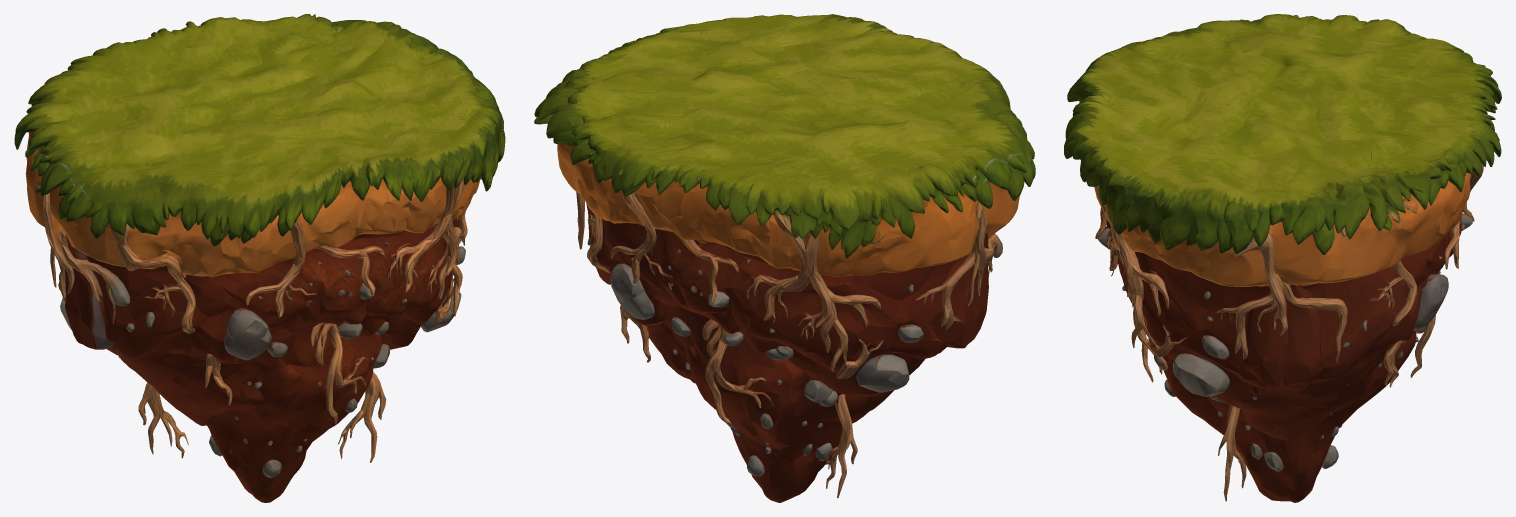
The model's file is isla2.glb.
3 views of the same model, side by side, from view 1: azimuth 30°, elevation 25°; view 2: azimuth 150°, elevation 25°; view 3: azimuth 270°, elevation 25° (orthographic).
Size of the model in its own units: 1.9 by 1.67 by 1.64.
1 material, 1 textured.
